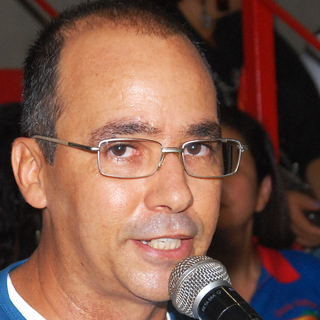eye: (101, 140, 144, 164), (178, 138, 213, 160)
